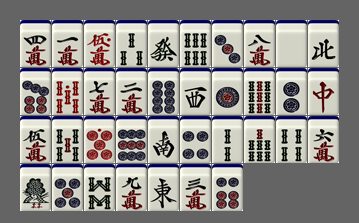0m: (84, 20, 115, 67)
0p: (84, 116, 115, 163)
0s: (52, 68, 83, 115)
1m: (52, 20, 83, 67)
1p: (212, 68, 243, 115)
1s: (20, 164, 51, 211)
1z: (148, 164, 179, 211)
2m: (116, 68, 147, 115)
2p: (276, 68, 307, 115)
2s: (212, 116, 243, 163)
2z: (148, 116, 179, 163)
3m: (180, 164, 211, 211)
3p: (212, 20, 243, 67)
3s: (116, 20, 147, 67)
3z: (180, 68, 211, 115)
4m: (20, 20, 51, 67)
4p: (180, 116, 211, 163)
4s: (276, 116, 307, 163)
4z: (308, 20, 339, 67)
5m: (20, 116, 51, 163)
5p: (52, 164, 83, 211)
5s: (52, 116, 83, 163)
5z: (276, 20, 307, 67)
6m: (308, 116, 339, 163)
6p: (212, 164, 243, 211)
6s: (180, 20, 211, 67)
6z: (148, 20, 179, 67)
7m: (84, 68, 115, 115)
7p: (20, 68, 51, 115)
7s: (244, 116, 275, 163)
7z: (308, 68, 339, 115)
8m: (244, 20, 275, 67)
8p: (148, 68, 179, 115)
8s: (84, 164, 115, 211)
9m: (116, 164, 147, 211)
9p: (116, 116, 147, 163)
9s: (244, 68, 275, 115)
